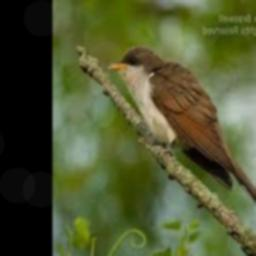Cuckoo: (109, 46, 256, 228)
